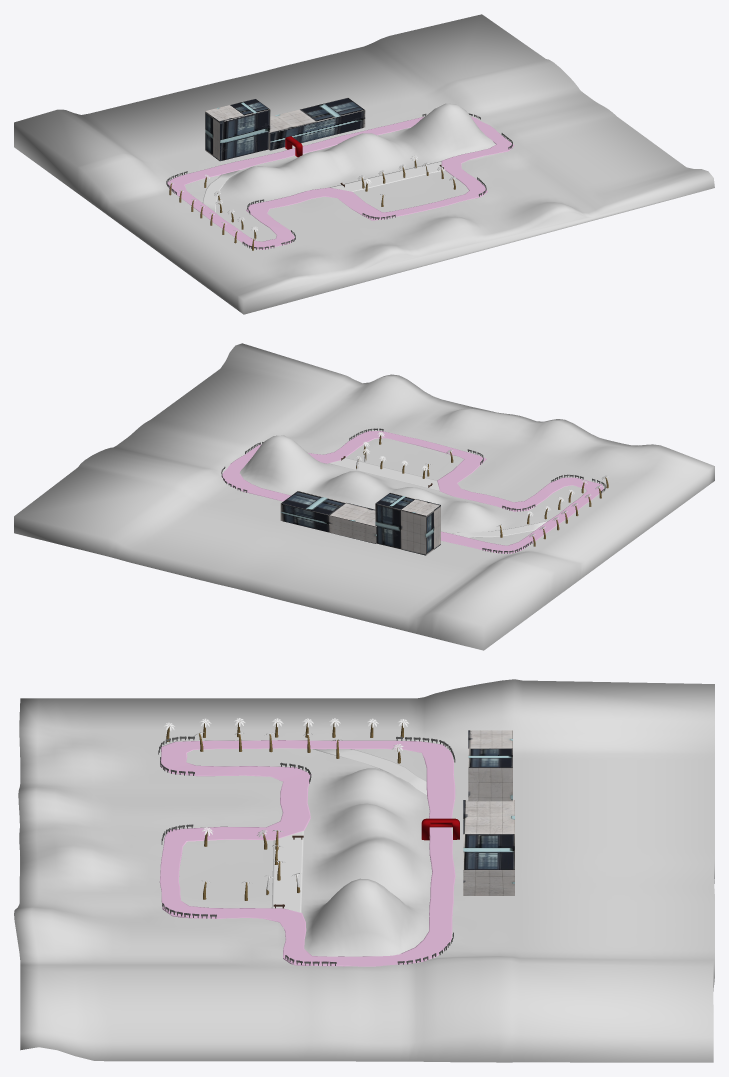
The model's file is pista 4.fbx.
The picture shows the model from 3 angles, top to bottom: view 1: azimuth 30°, elevation 25°; view 2: azimuth 150°, elevation 25°; view 3: azimuth 270°, elevation 25°; orthographic projection. The views are drawn at different scales.
Visible parts, largest first — view 1: deserto, stada, palazzetto, sterrato, palme, barriere; view 2: deserto, palazzetto, stada, sterrato, palme, barriere; view 3: deserto, stada, palazzetto, sterrato, palme, barriere.
Part boxes in pixels (x1=…): deserto: x1=14, y1=14, x2=714, y2=314; stada: x1=167, y1=116, x2=514, y2=249; palazzetto: x1=205, y1=98, x2=365, y2=161; sterrato: x1=202, y1=161, x2=444, y2=212; palme: x1=169, y1=155, x2=455, y2=250; barriere: x1=166, y1=113, x2=512, y2=249; deserto: x1=14, y1=343, x2=714, y2=650; palazzetto: x1=280, y1=491, x2=440, y2=555; stada: x1=222, y1=431, x2=603, y2=553; sterrato: x1=328, y1=457, x2=547, y2=537; palme: x1=356, y1=431, x2=608, y2=546; barriere: x1=221, y1=428, x2=605, y2=553; deserto: x1=14, y1=679, x2=714, y2=1062; stada: x1=159, y1=740, x2=455, y2=966; palazzetto: x1=463, y1=730, x2=514, y2=895; sterrato: x1=271, y1=749, x2=426, y2=912; palme: x1=164, y1=718, x2=408, y2=900; barriere: x1=158, y1=736, x2=455, y2=965.
Bounding box in the file's own units: 2371 × 263 × 2016.
